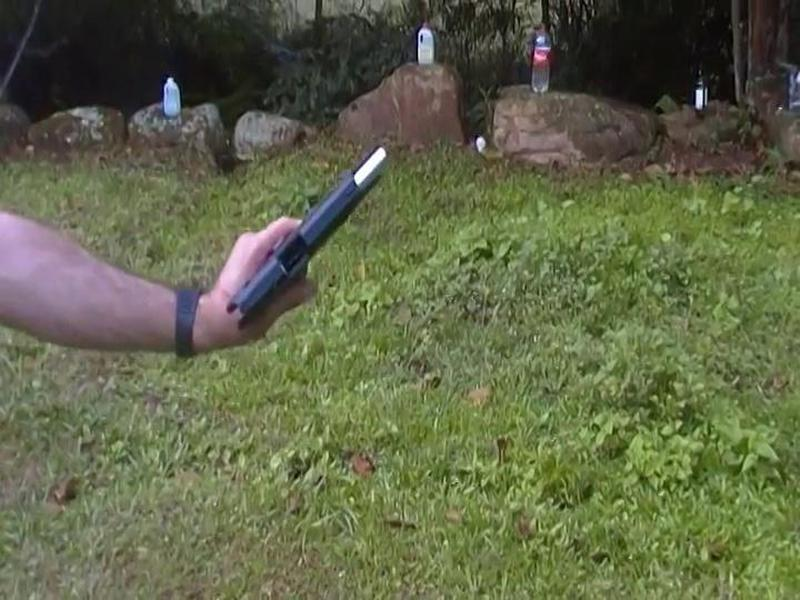Pistola: (197, 128, 419, 344)
